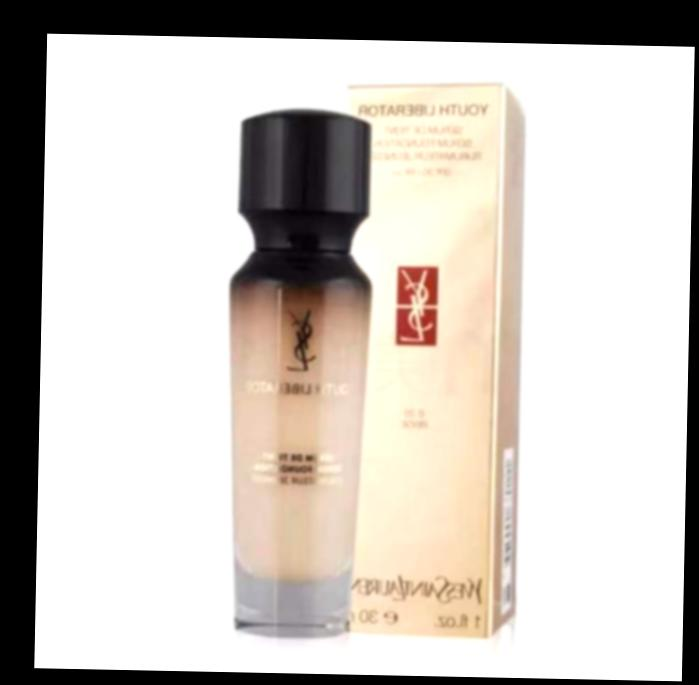cosmetic: (221, 117, 376, 638)
